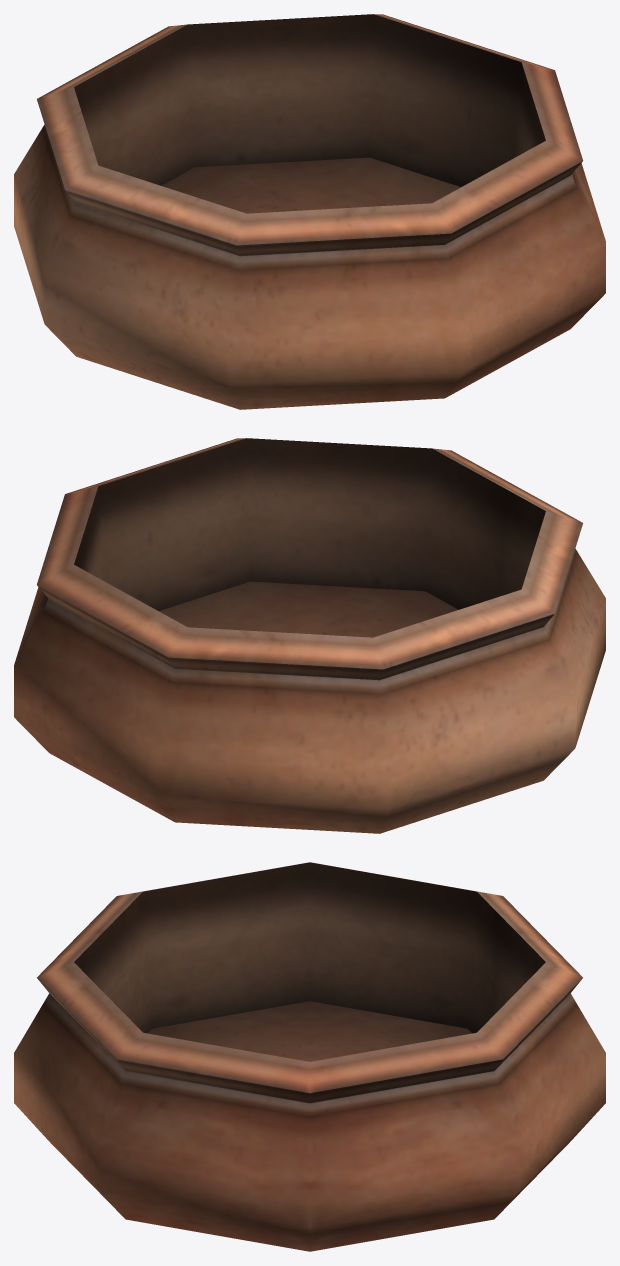
Rendered from Tea_2.FBX.
The picture shows the model from 3 angles, top to bottom: view 1: azimuth 30°, elevation 25°; view 2: azimuth 150°, elevation 25°; view 3: azimuth 270°, elevation 25°; orthographic projection. The views are drawn at different scales.
Visible parts, largest first — view 1: tea2; view 2: tea2; view 3: tea2.
Boxes of the visible parts, <box> form: tea2: <box>14,14,605,409</box>; tea2: <box>14,438,605,833</box>; tea2: <box>14,862,605,1251</box>.
Bounding box in the file's own units: 22.84 × 7.64 × 22.84.
